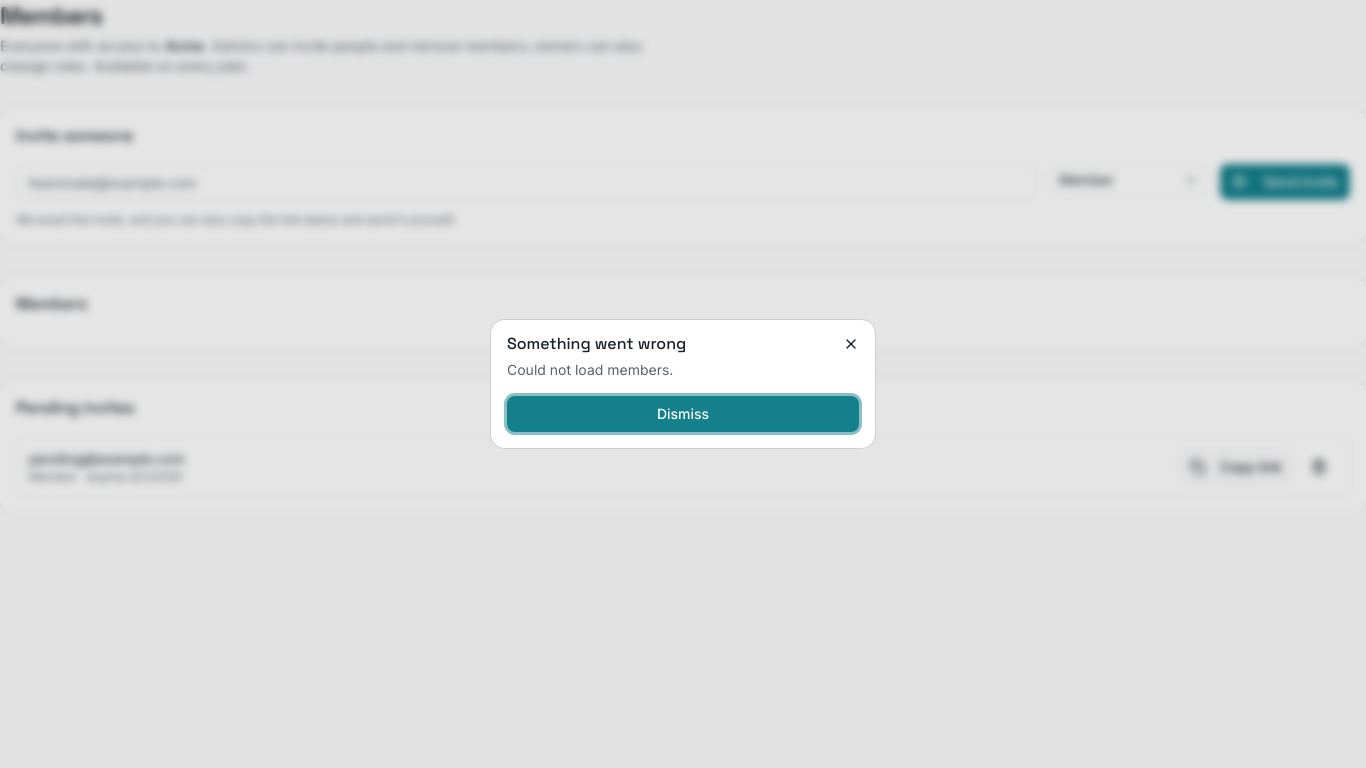
Test: TeamPage query errors › surfaces a failing members query in the error dialog, and it can be dismissed
The width and height of the screenshot is (1366, 768).
Check: the heading "Something went wrong" is shown, box [507,333,686,354]
Check: the text "Could not load members." is shown, box [507,361,673,378]
Step 1. Click the button "Dismiss" → [683, 414], box [507,396,859,432]
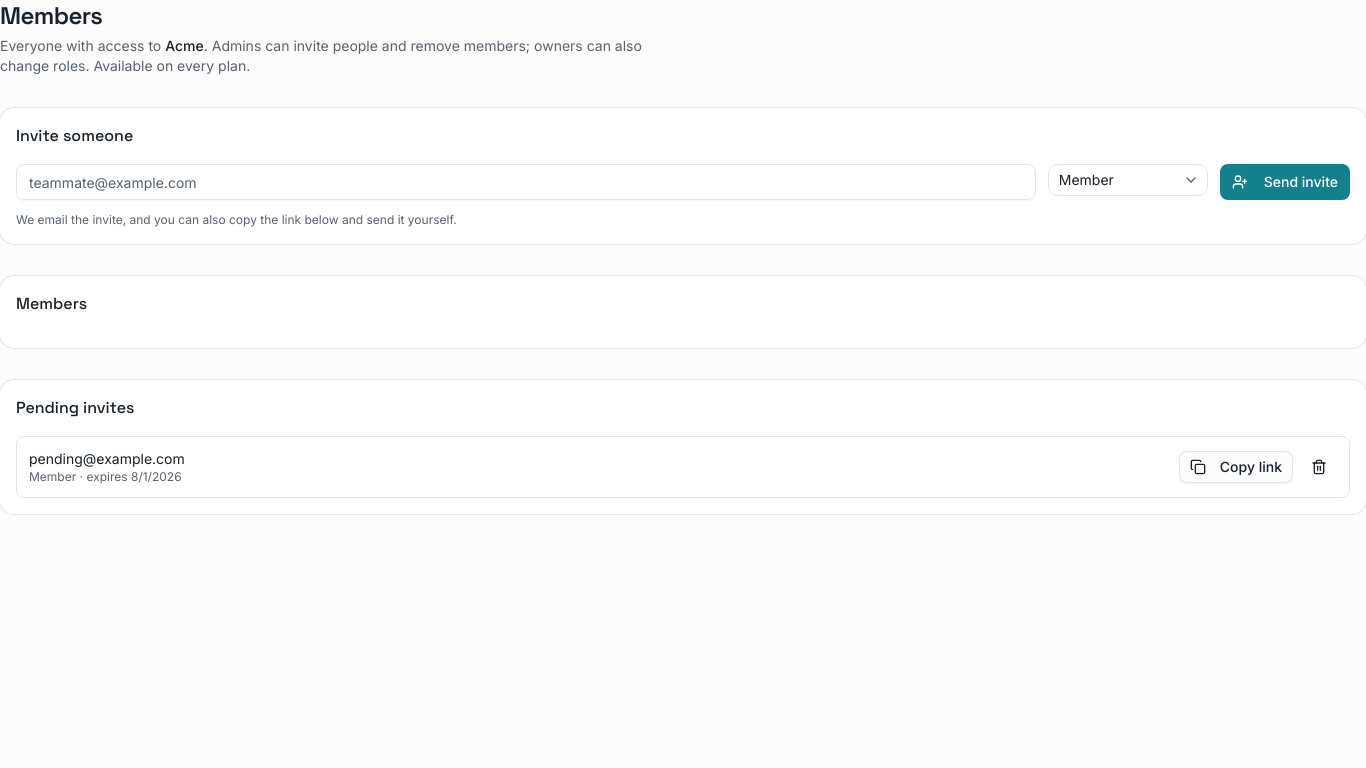
Check: the heading "Something went wrong" is gone
